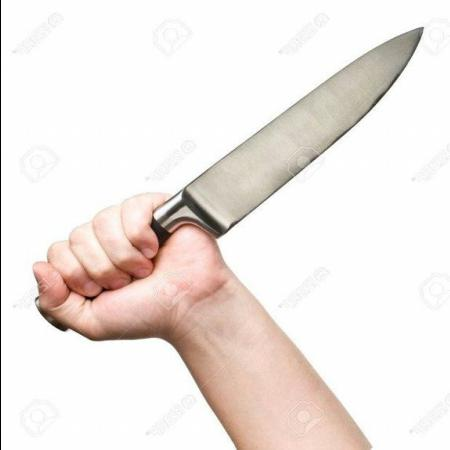long weapon: (72, 21, 428, 302)
